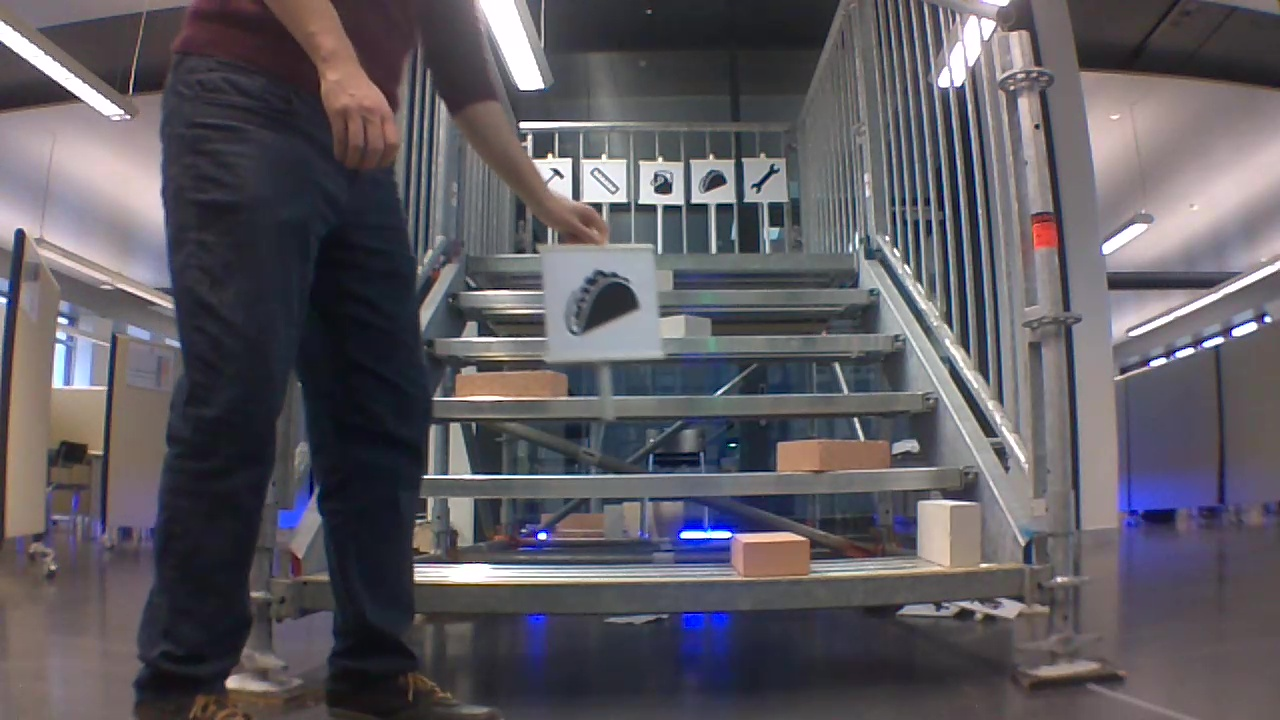brick: (917, 499, 980, 566), (775, 438, 888, 470), (454, 369, 563, 397), (731, 535, 807, 574), (662, 316, 709, 336)
bucket: (644, 166, 675, 196)
edge: (420, 564, 1023, 614), (425, 467, 979, 496), (433, 391, 936, 415)
ruler: (588, 164, 621, 197)
taco: (556, 261, 643, 338), (696, 167, 728, 195)
wrench: (747, 161, 784, 197)
